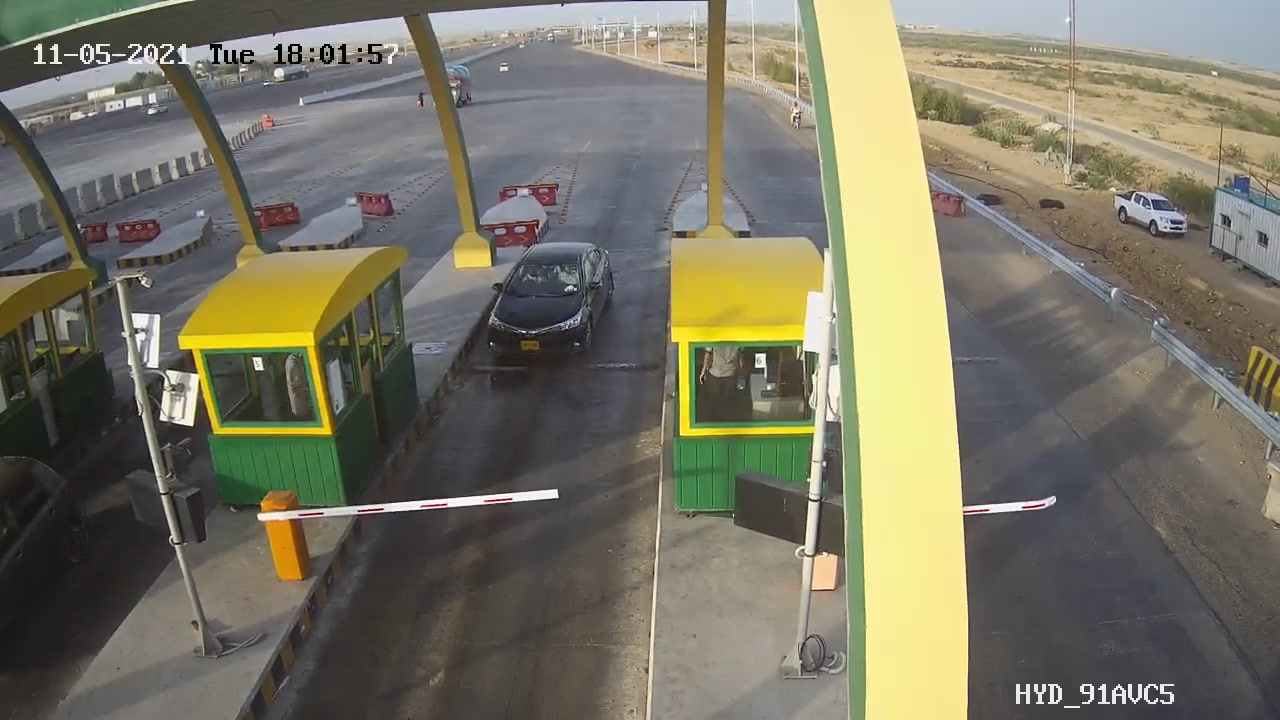F1: (476, 234, 622, 375)
